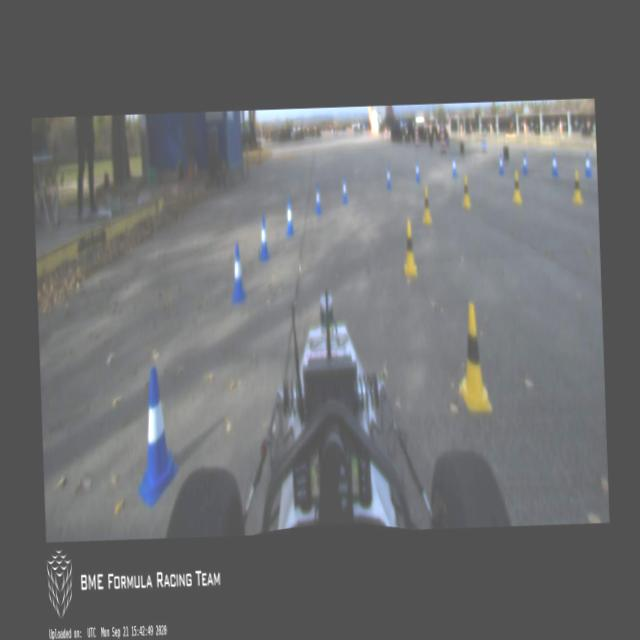blue_cone: (133, 366, 179, 508), (228, 242, 246, 302), (256, 216, 270, 259), (284, 198, 294, 235), (312, 183, 322, 214), (340, 175, 348, 203), (550, 150, 558, 176), (584, 152, 592, 178), (496, 150, 504, 175), (384, 164, 392, 188), (414, 158, 421, 184), (520, 152, 528, 174), (451, 153, 456, 175)
yellow_cone: (457, 301, 492, 413), (401, 221, 417, 275), (420, 182, 432, 224), (570, 168, 582, 205), (511, 167, 522, 204), (460, 174, 471, 210)
